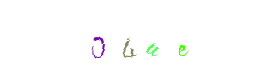0: (59, 0, 139, 80)
4: (84, 0, 164, 80)
E: (125, 0, 205, 80)
U: (100, 0, 180, 80)
